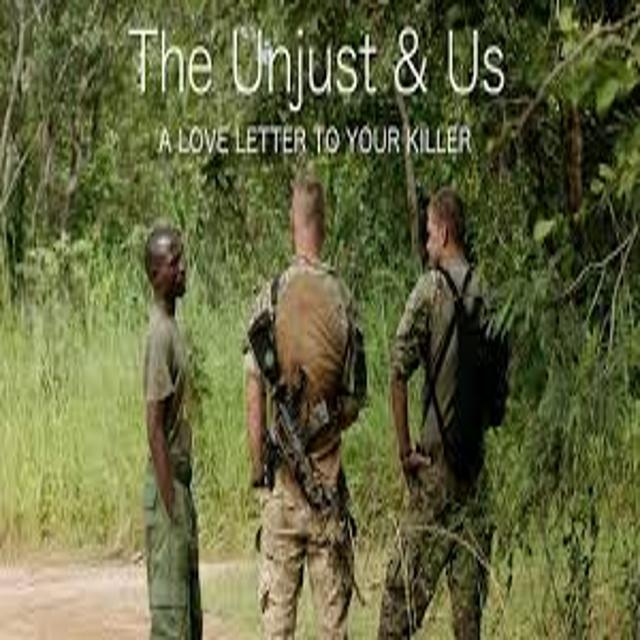backpack: (402, 281, 538, 524)
gun: (223, 294, 393, 626)
poacher: (204, 144, 394, 640), (356, 167, 536, 640), (86, 209, 236, 637)
